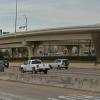Bridge: (3, 23, 97, 58)
